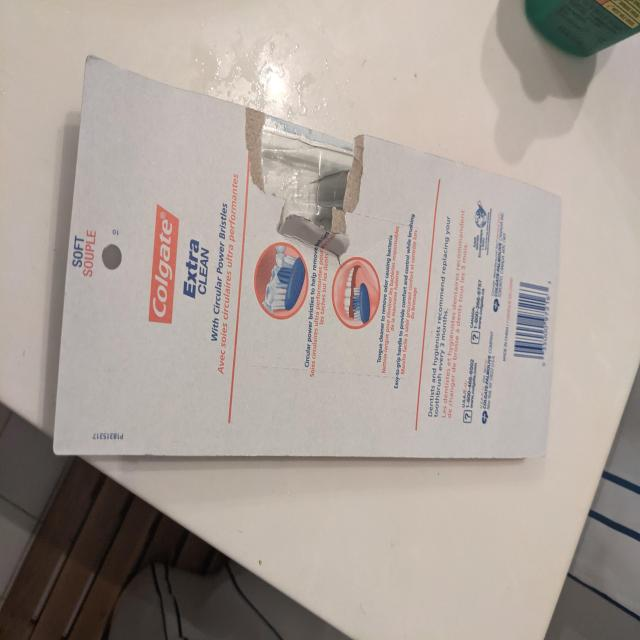litter: (54, 54, 562, 457)
